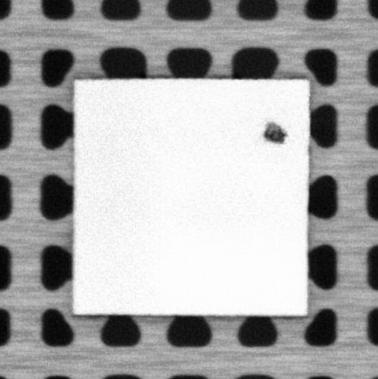DIE_INK: (261, 119, 289, 146)
